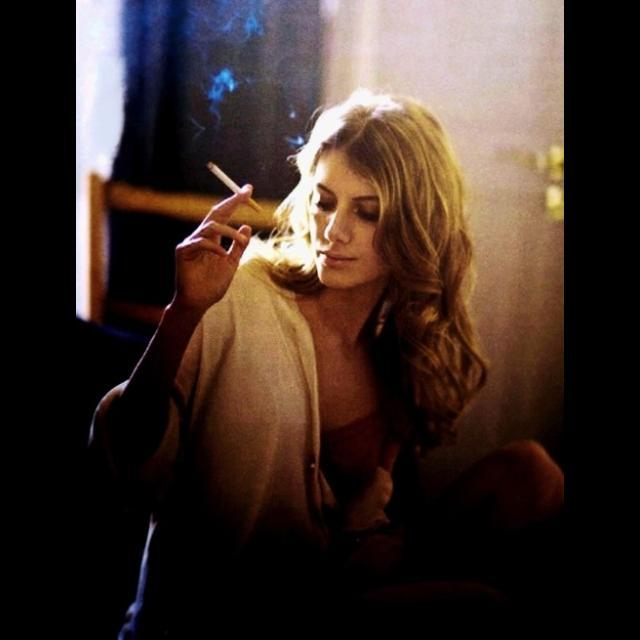rokok: (203, 154, 265, 213)
